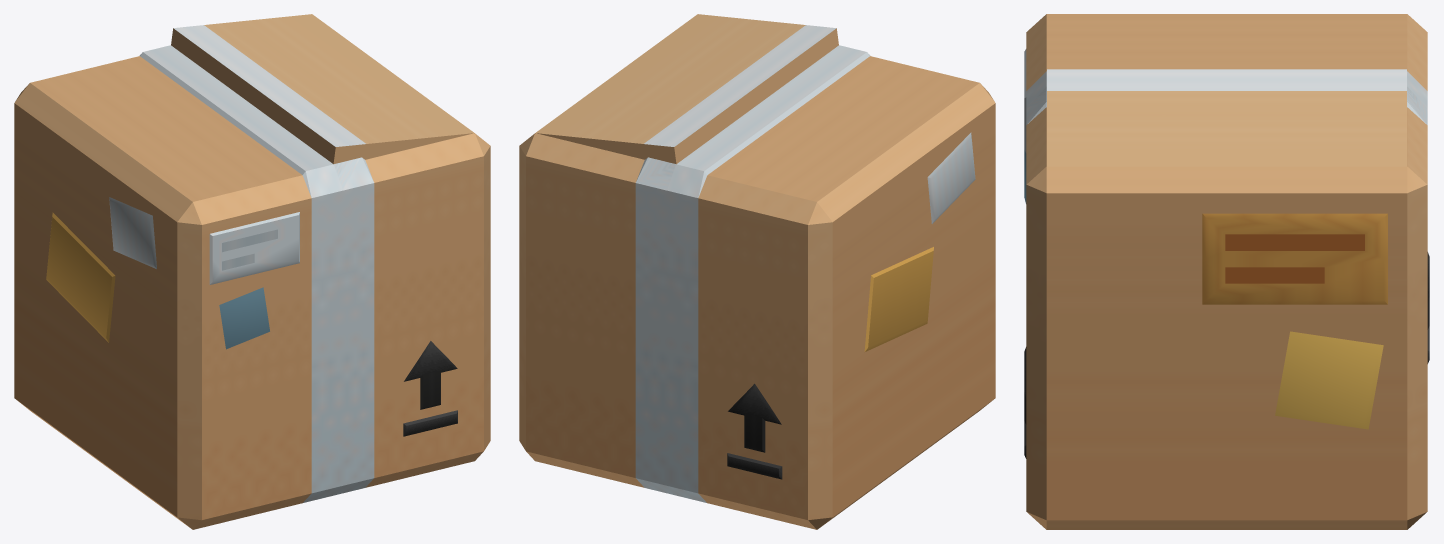
Rendered from Containers_Box_Large.gltf.
The picture shows the model from 3 angles, left to right: view 1: azimuth 30°, elevation 25°; view 2: azimuth 150°, elevation 25°; view 3: azimuth 270°, elevation 25°; orthographic projection. The views are drawn at different scales.
Visible parts, largest first — view 1: Containers_Box_Large; view 2: Containers_Box_Large; view 3: Containers_Box_Large.
Part boxes in pixels (left/top/right/bottom): Containers_Box_Large: left=14, top=14, right=490, bottom=529; Containers_Box_Large: left=519, top=14, right=995, bottom=529; Containers_Box_Large: left=1024, top=14, right=1429, bottom=529.
Size of the model in its own units: 0.7578 by 0.7954 by 0.7578.
1 material, 1 textured.
